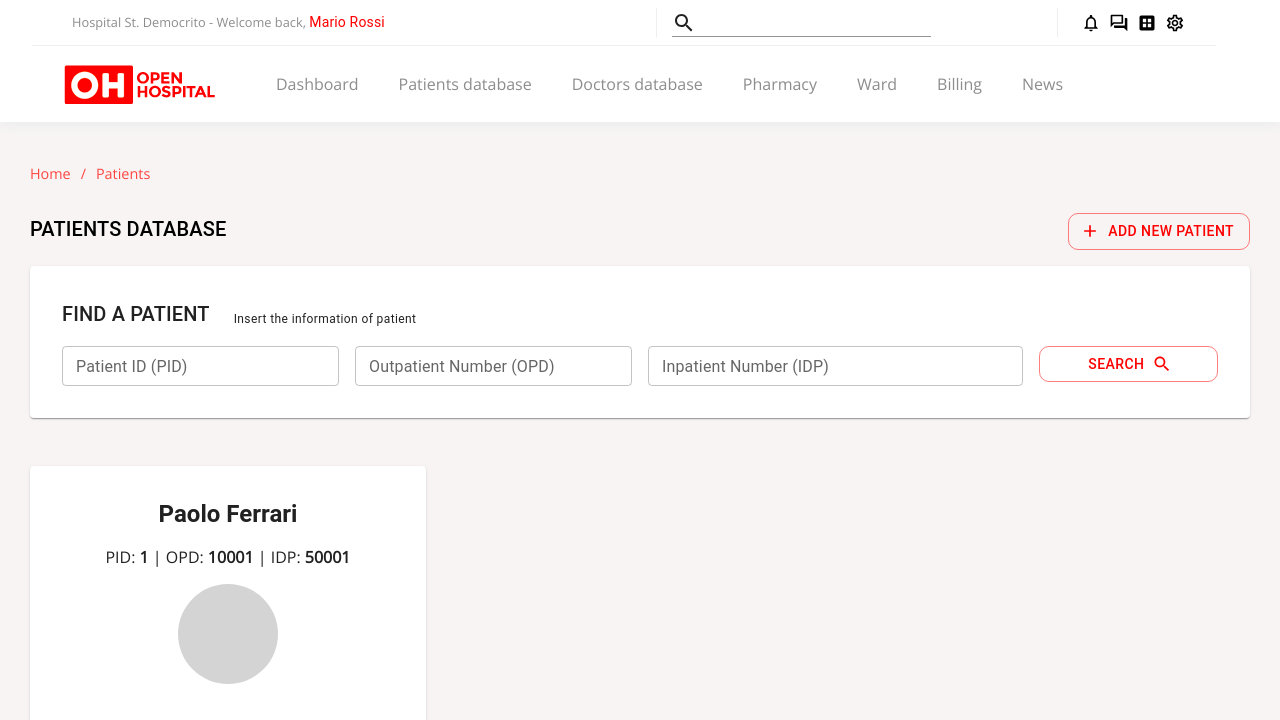
Scenario: Patients feature tests › should navigate to patient details when clicking on a patient
The image size is (1280, 720).
Click on the first patient card
Click the element with test id "patient-card".
click(228, 594)  # box [30, 466, 426, 719]
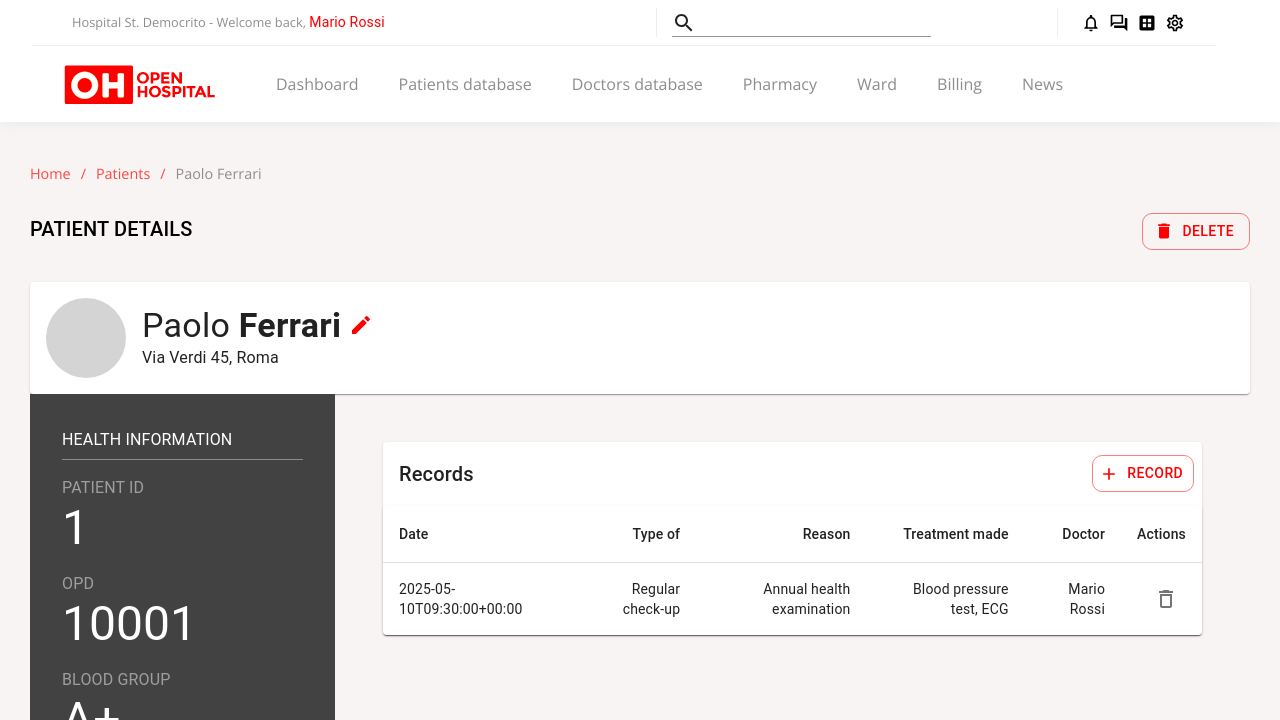
Check: the heading "Patient details" is shown, box [30, 217, 192, 241]
